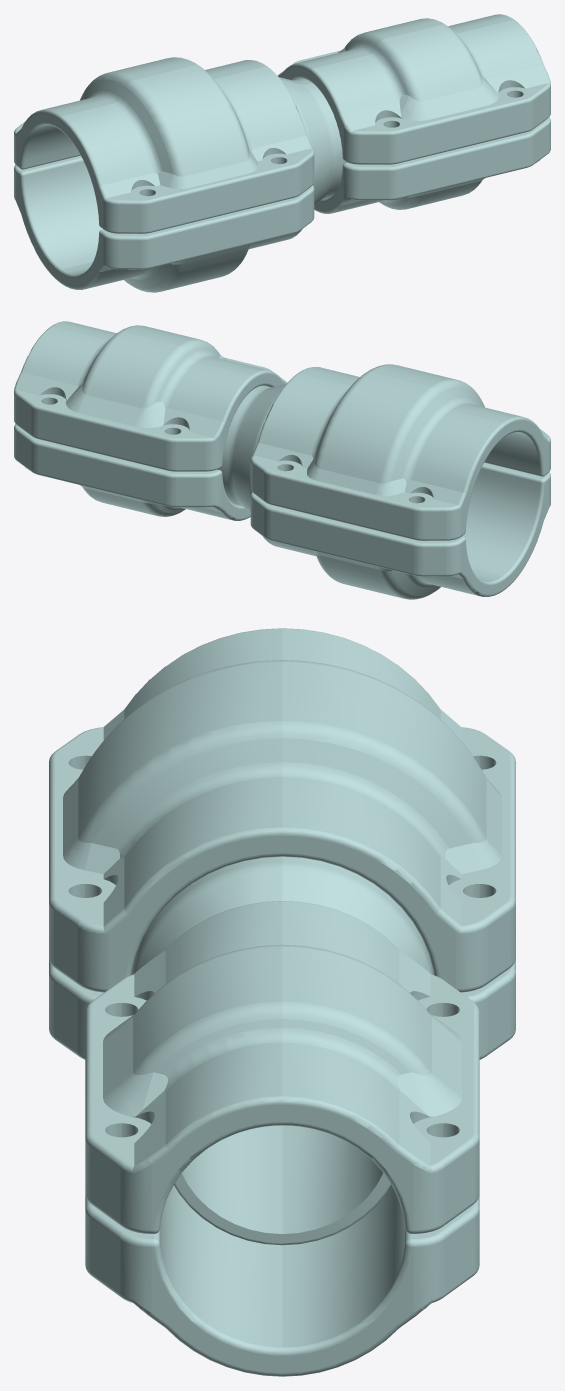
The picture shows the model from 3 angles, top to bottom: view 1: azimuth 30°, elevation 25°; view 2: azimuth 150°, elevation 25°; view 3: azimuth 270°, elevation 25°; orthographic projection. The views are drawn at different scales.
Size of the model in its own units: 174 by 74.3 by 77.
